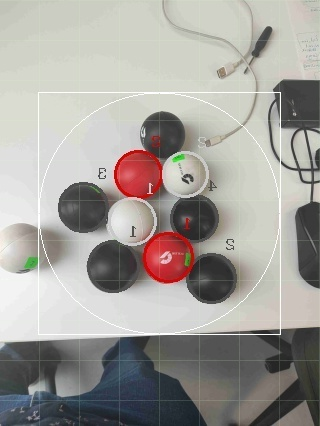Pelota blanca: (162, 0, 257, 81), (87, 238, 140, 294), (58, 180, 111, 235), (186, 252, 238, 304), (106, 196, 159, 246), (162, 150, 212, 198), (0, 222, 44, 275), (295, 201, 320, 288)
Pelota negra: (15, 350, 209, 425), (186, 252, 238, 304), (170, 196, 220, 243), (141, 110, 188, 160)
Pelota roja: (143, 230, 196, 283), (114, 148, 164, 200)
